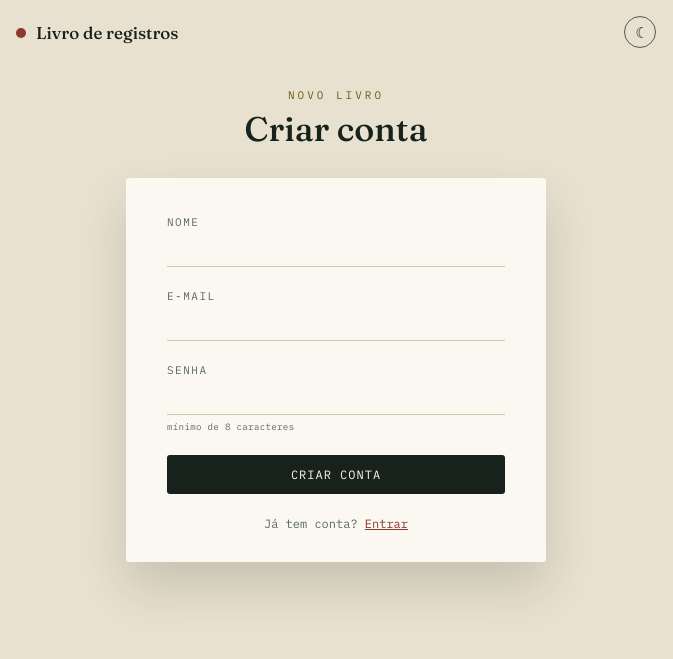
RegisterPage › mostra o erro devolvido pela API
This screenshot has width=673, height=659.
Type "Ana" into the field labelled "Nome". click: (336, 251)
box: 167,235 -> 505,267
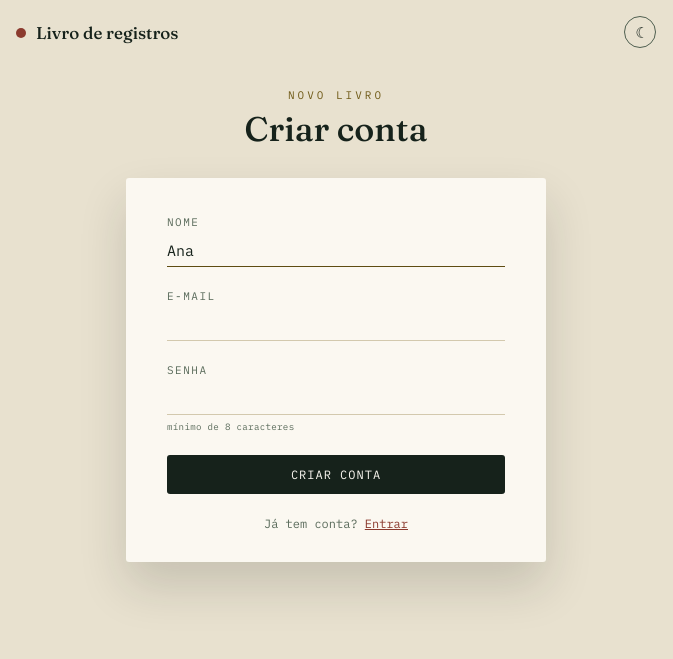
Type "ana@example.com" into the field labelled "E-mail". click: (336, 325)
box: 167,309 -> 505,341
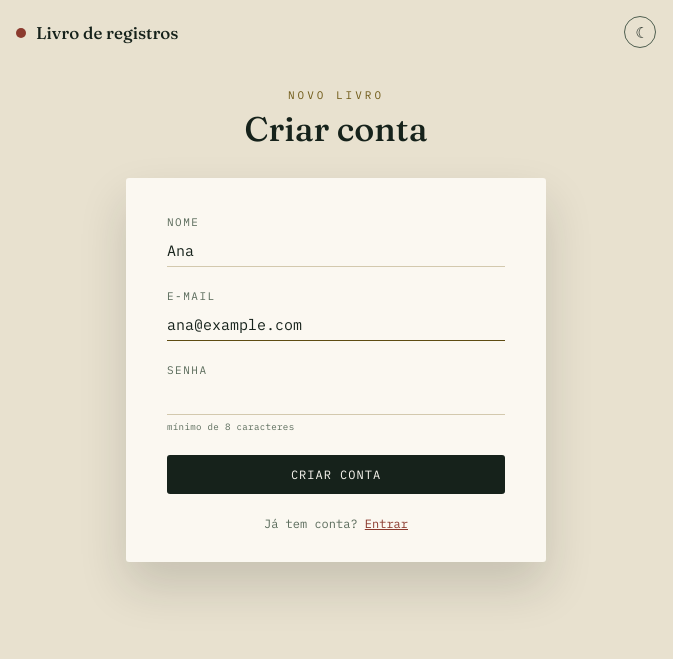
Type "senha-segura" into the password field labelled "Senha". click: (336, 399)
box: 167,383 -> 505,415
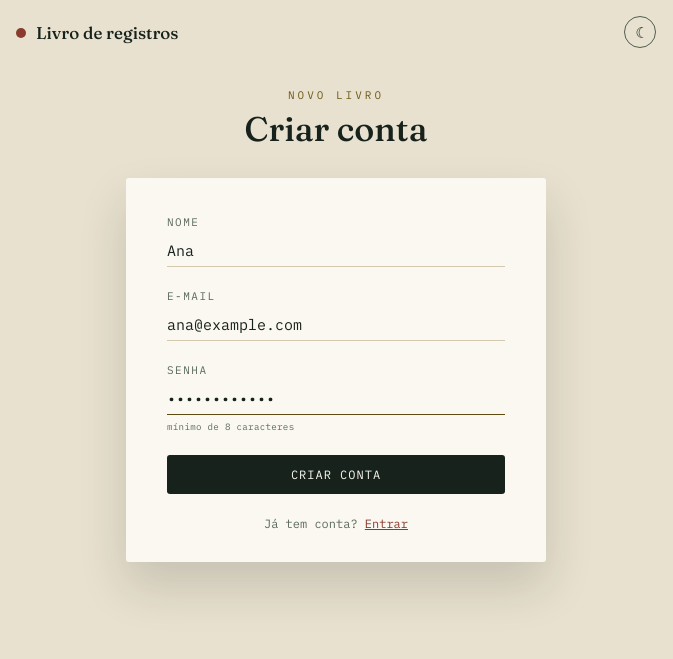
Click the button "Criar conta". click: (336, 474)
box: 167,455 -> 505,494
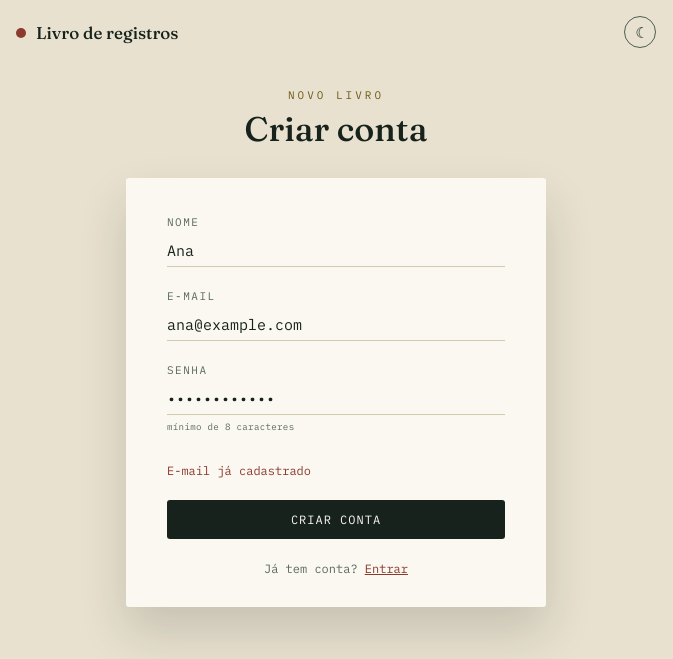
Expected: the message reads "E-mail já cadastrado", 167,463 -> 311,478
